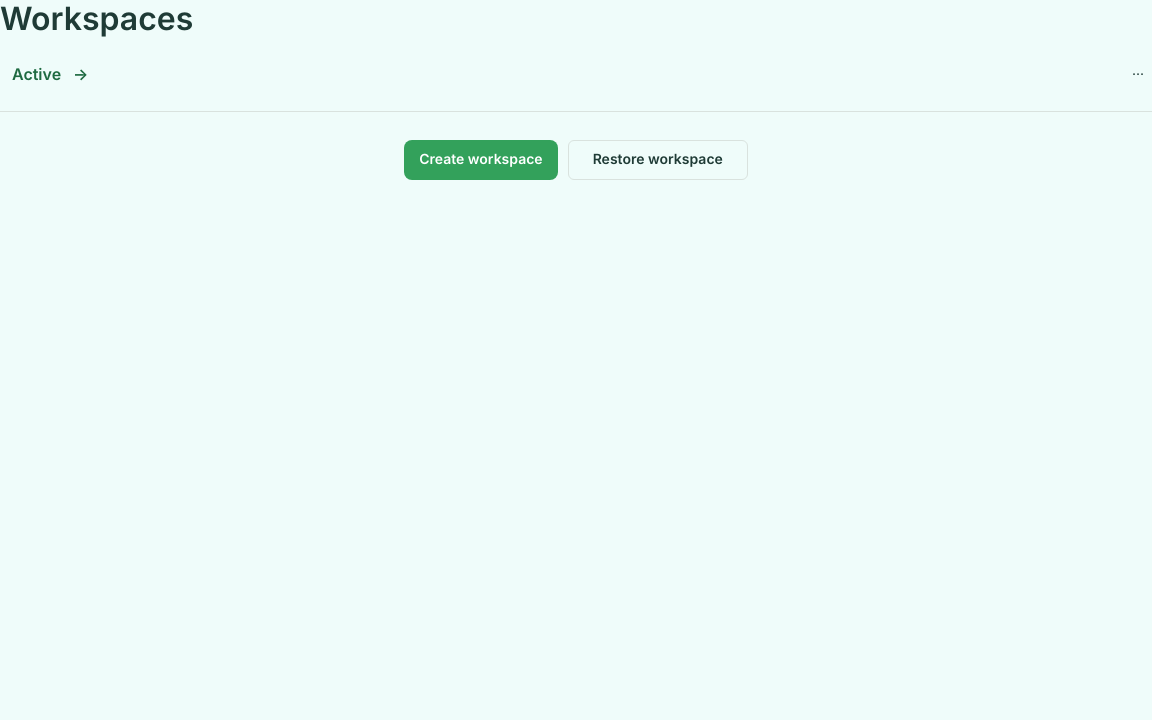
Workspace management › keeps a successful archive truthful if the follow-up resolver fails
Click the button named "Actions for Active": (1138, 75) [1124,60,1151,90]
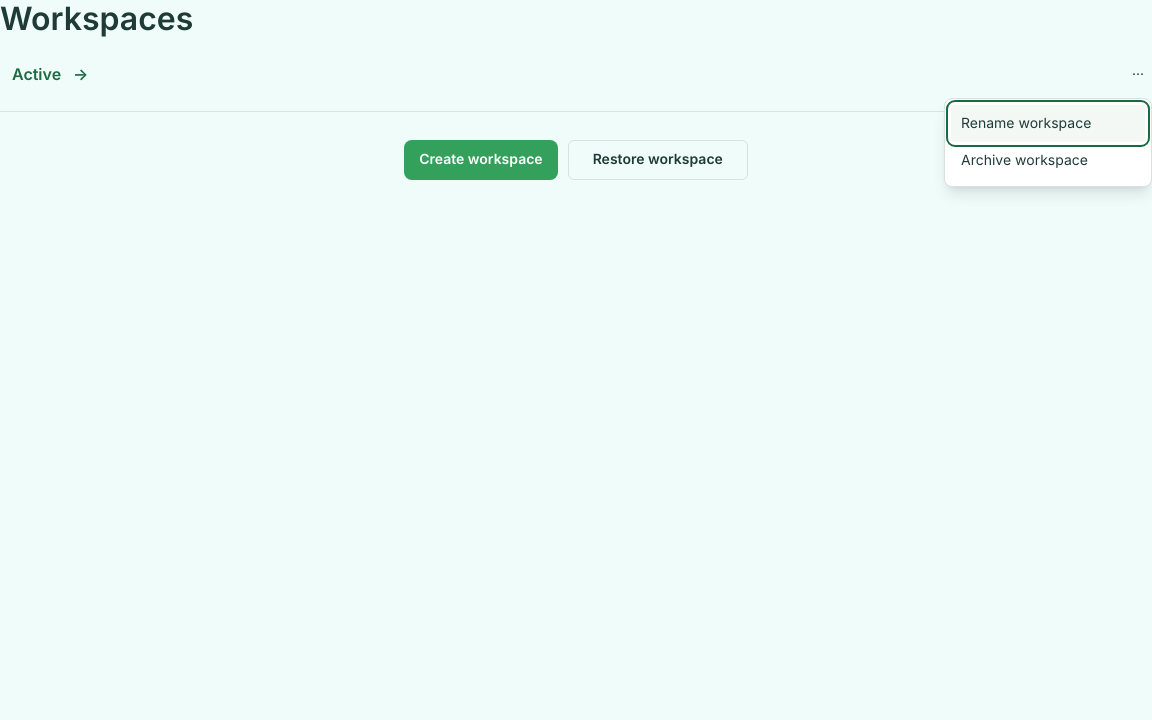
Click the menu item "Archive workspace": (1048, 161) [951,142,1145,180]
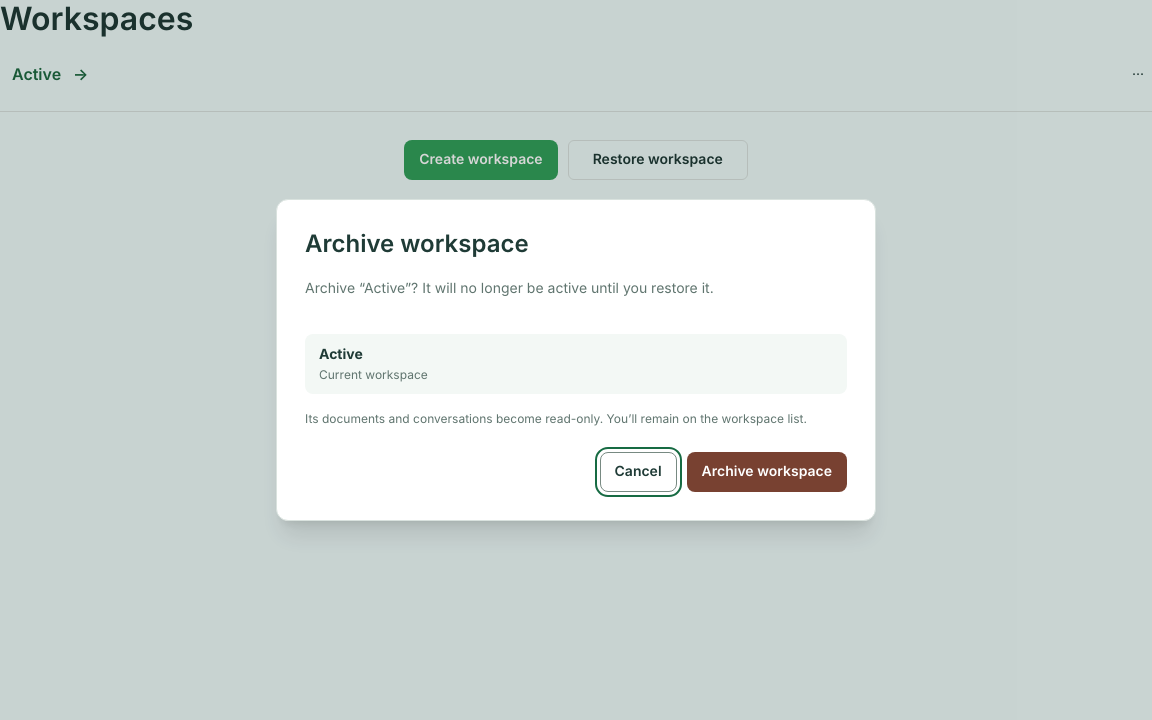
Click the button "Archive workspace": (767, 472) [687,452,847,492]
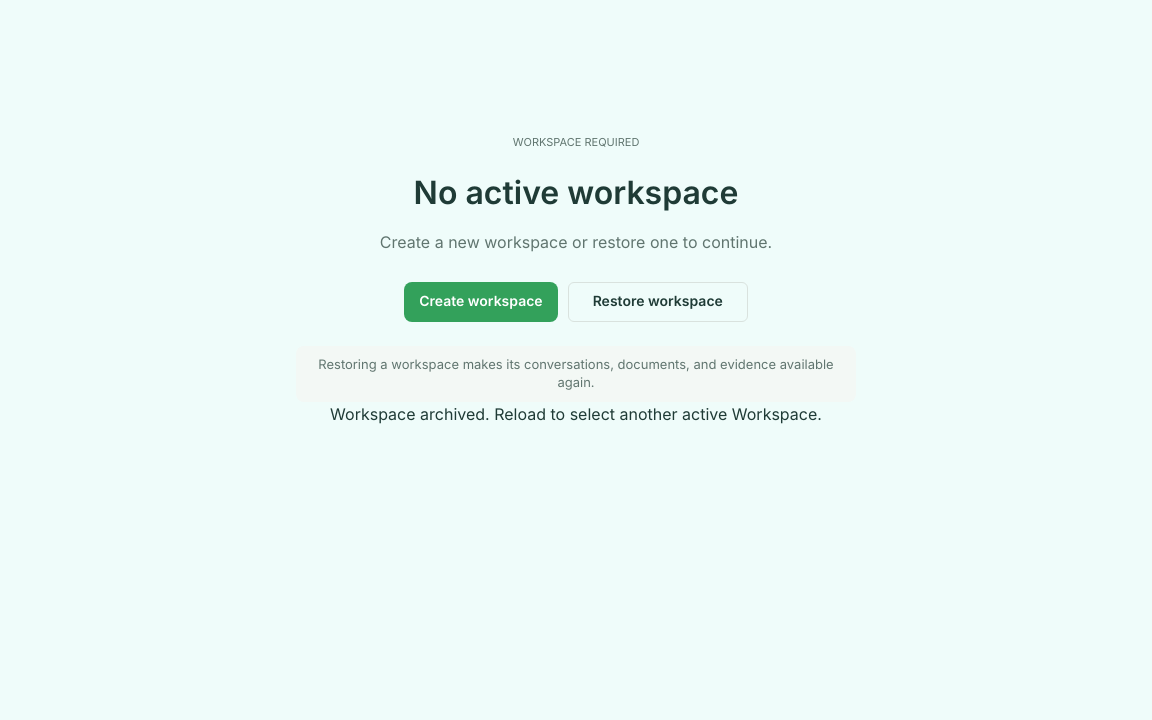
Now the message reads "Workspace archived. Reload to select another active Workspace.", box [330,404,822,424]
